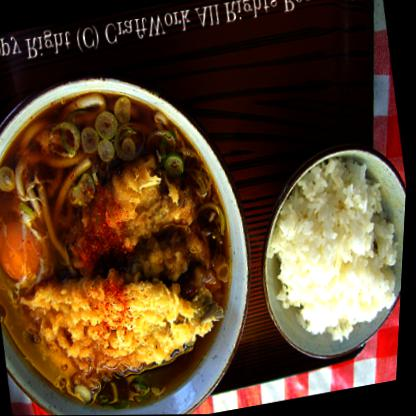Udon: (0, 62, 276, 415)
rice ball: (242, 125, 410, 377)
